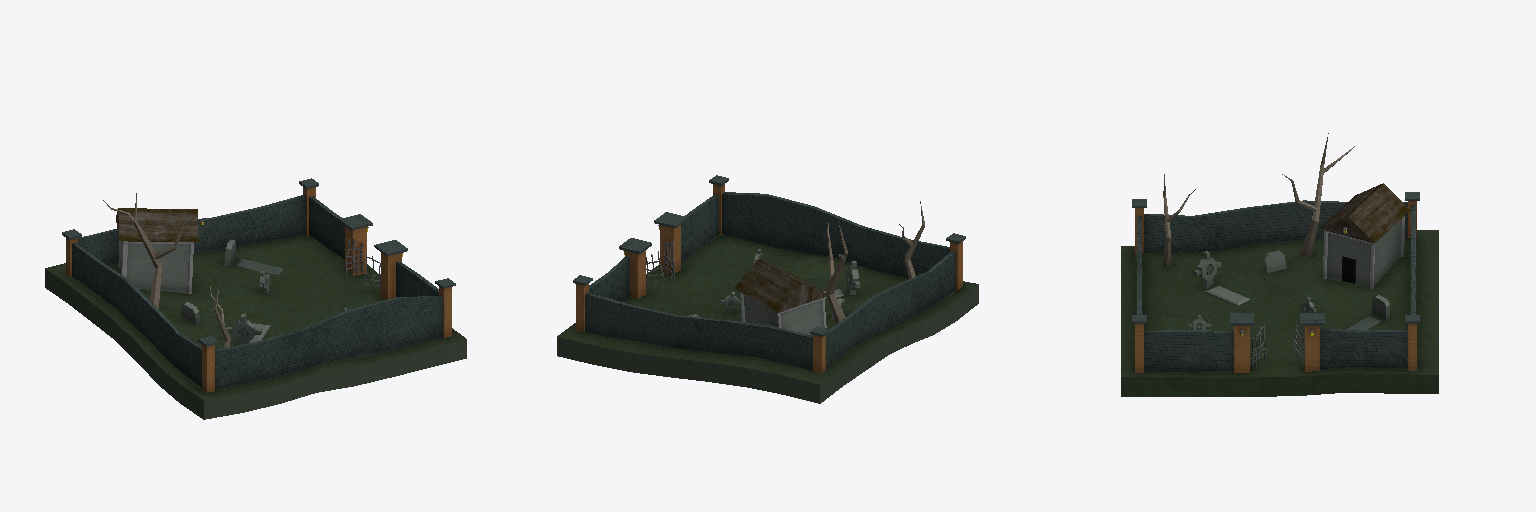
The picture shows the model from 3 angles: view 1: azimuth 30°, elevation 25°; view 2: azimuth 150°, elevation 25°; view 3: azimuth 270°, elevation 25°; orthographic projection.
Visible parts, largest first — view 1: Cementary_mesh; view 2: Cementary_mesh; view 3: Cementary_mesh.
Boxes of the visible parts, x1,y1,x2,y2 form: Cementary_mesh: [45, 178, 466, 419]; Cementary_mesh: [557, 175, 978, 403]; Cementary_mesh: [1121, 133, 1438, 396].
Size of the model in its own units: 22.86 by 12.82 by 23.91.
1 materials, 1 textured.